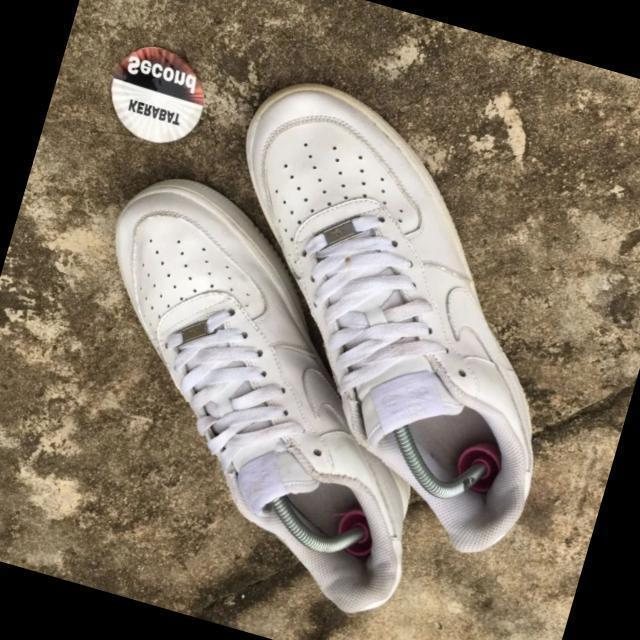nike original air force: (148, 68, 630, 570), (24, 153, 493, 618)
